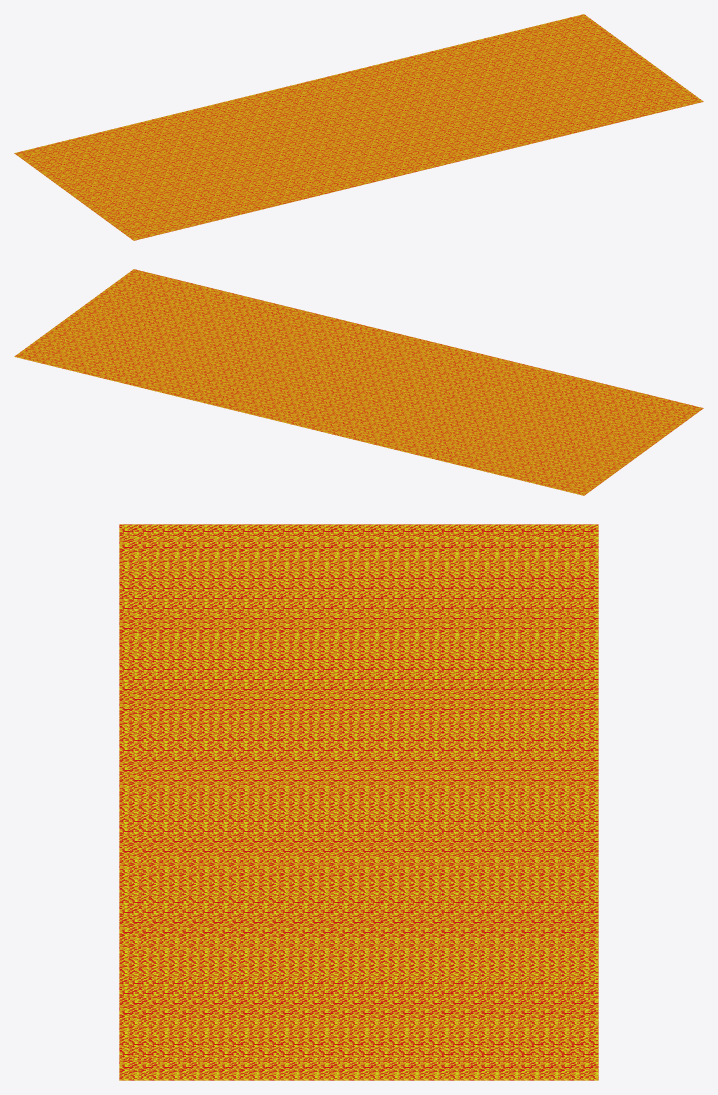
Rendered from SecretLavaPoolCompact.glb.
3 renders of one model, top to bottom at view 1: azimuth 30°, elevation 25°; view 2: azimuth 150°, elevation 25°; view 3: azimuth 270°, elevation 25°, orthographic. The views are drawn at different scales.
Visible parts, largest first — view 1: Sonic_Sector_1, Sonic_Sector_0, Sonic_Sector_5, Sonic_Sector_2, Sonic_Sector_3, Sonic_Sector_4, Sonic_Sector_6; view 2: Sonic_Sector_1, Sonic_Sector_0, Sonic_Sector_5, Sonic_Sector_2, Sonic_Sector_3, Sonic_Sector_4, Sonic_Sector_6; view 3: Sonic_Sector_1, Sonic_Sector_0, Sonic_Sector_5, Sonic_Sector_2, Sonic_Sector_3, Sonic_Sector_4, Sonic_Sector_6.
Part boxes in pixels (x1,y1,x2,y2): Sonic_Sector_1: [114, 103, 336, 216]; Sonic_Sector_0: [14, 129, 232, 240]; Sonic_Sector_5: [467, 19, 682, 130]; Sonic_Sector_2: [217, 83, 419, 191]; Sonic_Sector_3: [301, 63, 502, 170]; Sonic_Sector_4: [384, 43, 585, 150]; Sonic_Sector_6: [563, 14, 703, 106]; Sonic_Sector_1: [381, 358, 603, 471]; Sonic_Sector_0: [485, 384, 703, 495]; Sonic_Sector_5: [35, 274, 250, 385]; Sonic_Sector_2: [298, 338, 500, 446]; Sonic_Sector_3: [215, 318, 416, 425]; Sonic_Sector_4: [132, 298, 333, 405]; Sonic_Sector_6: [14, 269, 154, 361]; Sonic_Sector_1: [119, 621, 598, 722]; Sonic_Sector_0: [119, 524, 598, 621]; Sonic_Sector_5: [119, 966, 598, 1060]; Sonic_Sector_2: [119, 722, 598, 803]; Sonic_Sector_3: [119, 804, 598, 884]; Sonic_Sector_4: [119, 885, 598, 965]; Sonic_Sector_6: [119, 1060, 598, 1080].
Size of the model in its own units: 165 by 1.33e-14 by 60.
Materials: 1 (1 with a texture image).
